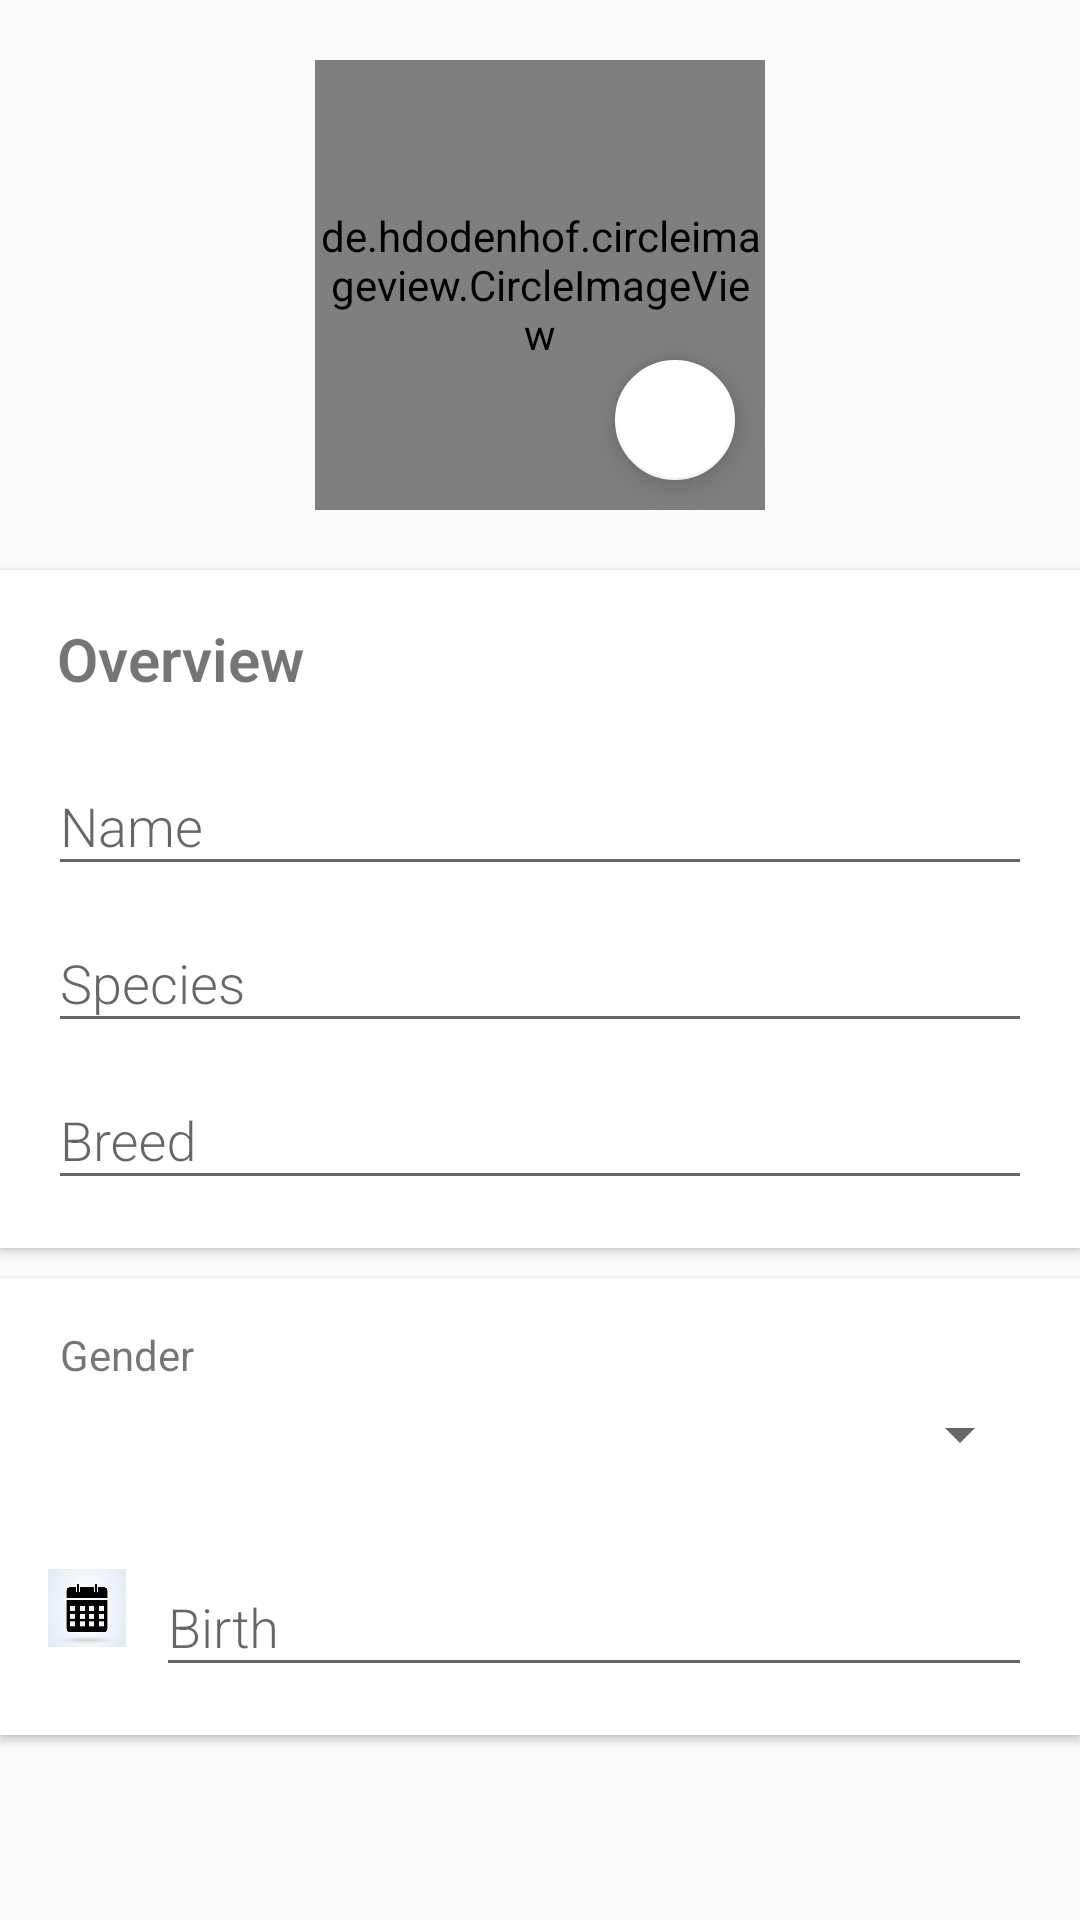

Icon click points for this 1080x1920 phone screenshot, format [x,y]:
date: [87,1608]
